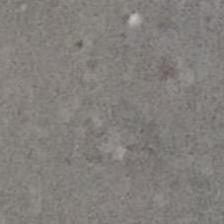Non_Crack: (11, 13, 224, 217)
